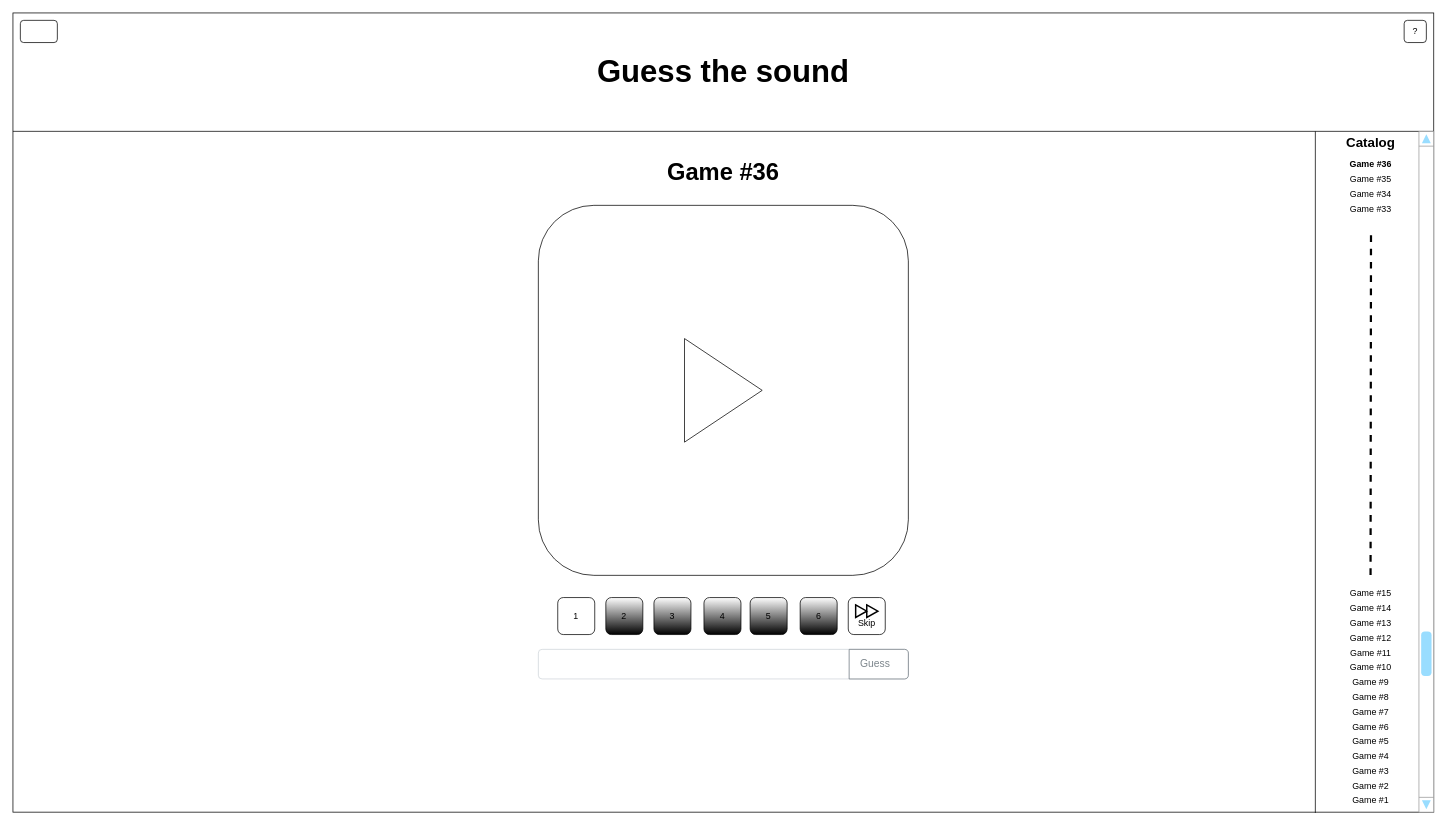
The diagram is 1447 pixels wide and 827 high, and some of its shapes have lost their labels. Each missing label, with the centre of its shape:
"About" belongs at pixel 38 31.
"Select your guess..." belongs at pixel 723 664.
